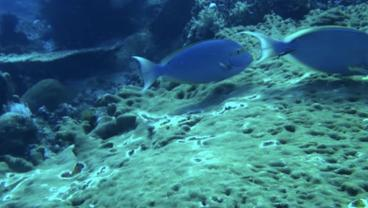Acanthuridae -Surgeonfishes-: (129, 37, 256, 93), (233, 25, 368, 74)
